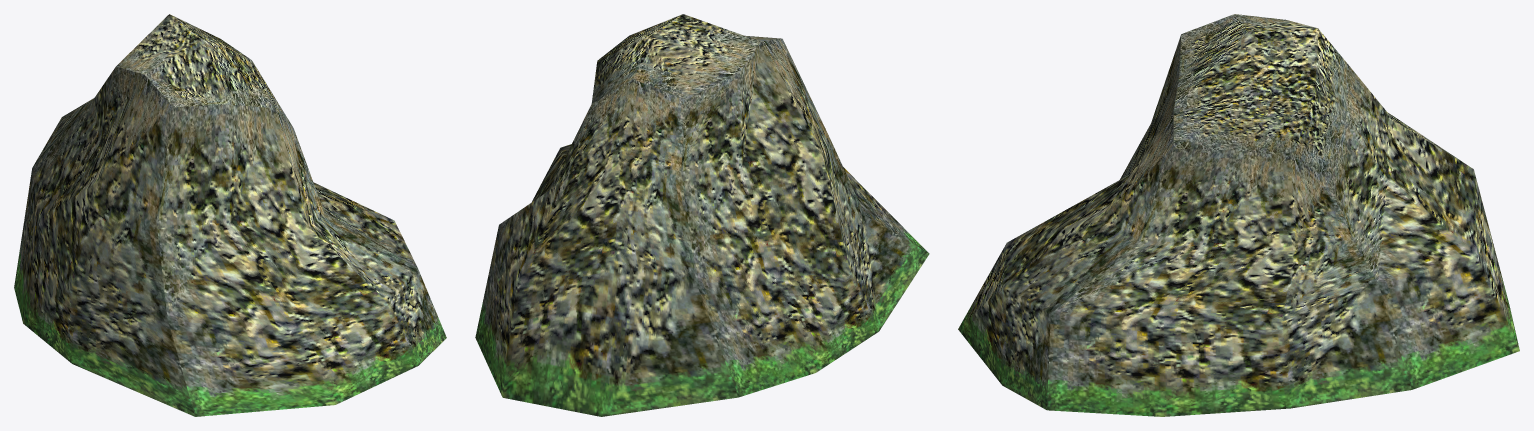
File: rock02.glb
The picture shows the model from 3 angles, left to right: view 1: azimuth 30°, elevation 25°; view 2: azimuth 150°, elevation 25°; view 3: azimuth 270°, elevation 25°; orthographic projection. The views are drawn at different scales.
Parts seen in each view (by area): view 1: rock02; view 2: rock02; view 3: rock02.
Part boxes in pixels (x1=…): rock02: x1=14, y1=14, x2=446, y2=416; rock02: x1=475, y1=14, x2=929, y2=416; rock02: x1=958, y1=14, x2=1519, y2=416.
Bounding box in the file's own units: 4.47 × 3.66 × 6.21.
2 materials, 2 textured.
